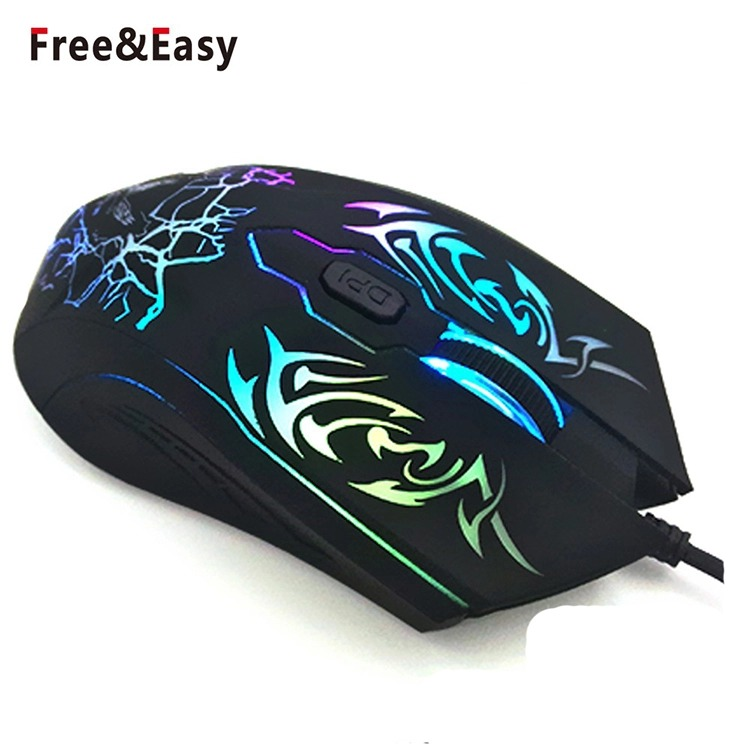mouse: (5, 150, 693, 662)
